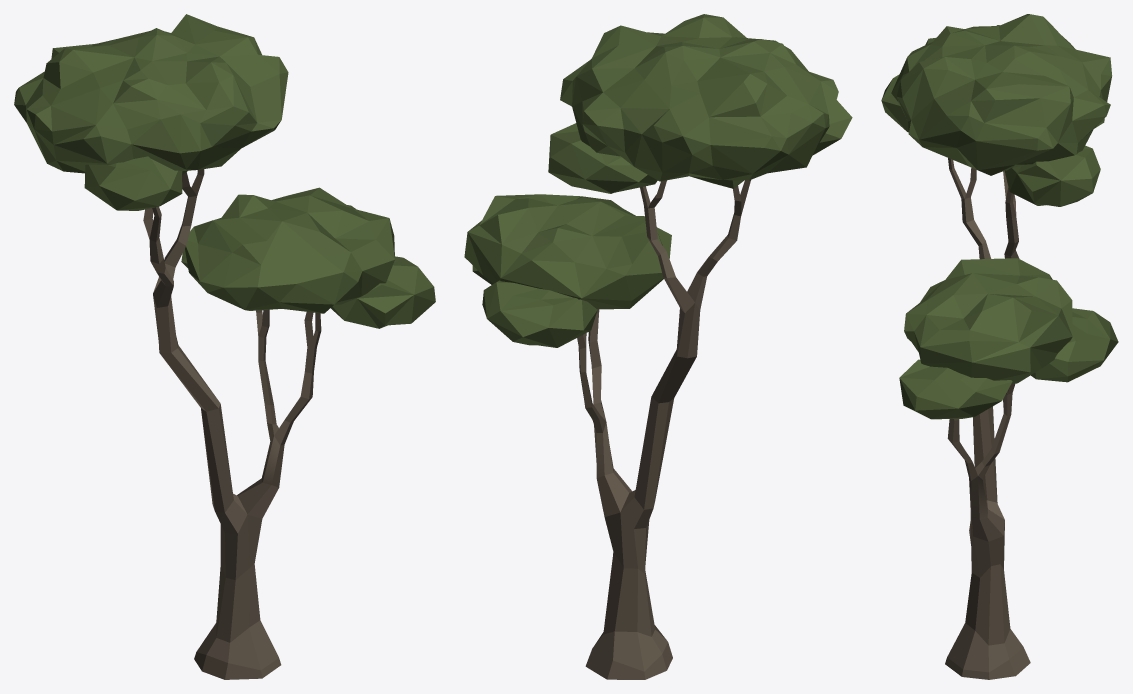
The model's file is Tree_11.gltf.
3 renders of one model, left to right at view 1: azimuth 30°, elevation 25°; view 2: azimuth 150°, elevation 25°; view 3: azimuth 270°, elevation 25°, orthographic. The views are drawn at different scales.
Visible parts, largest first — view 1: Tree_11; view 2: Tree_11; view 3: Tree_11.
Boxes of the visible parts, <box> form: Tree_11: <box>14,14,435,679</box>; Tree_11: <box>464,14,852,679</box>; Tree_11: <box>881,14,1118,679</box>.
Bounding box in the file's own units: 0.6503 × 1.08 × 0.3942.
Materials: 1 (1 with a texture image).
